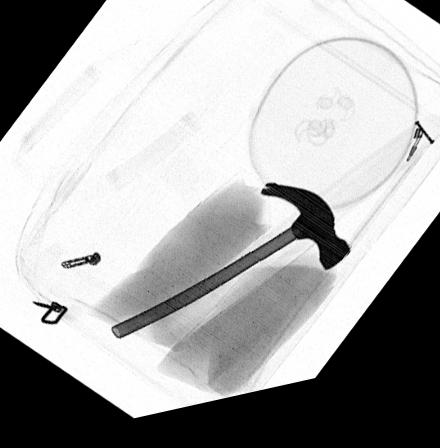Hammer: (110, 192, 351, 343)
